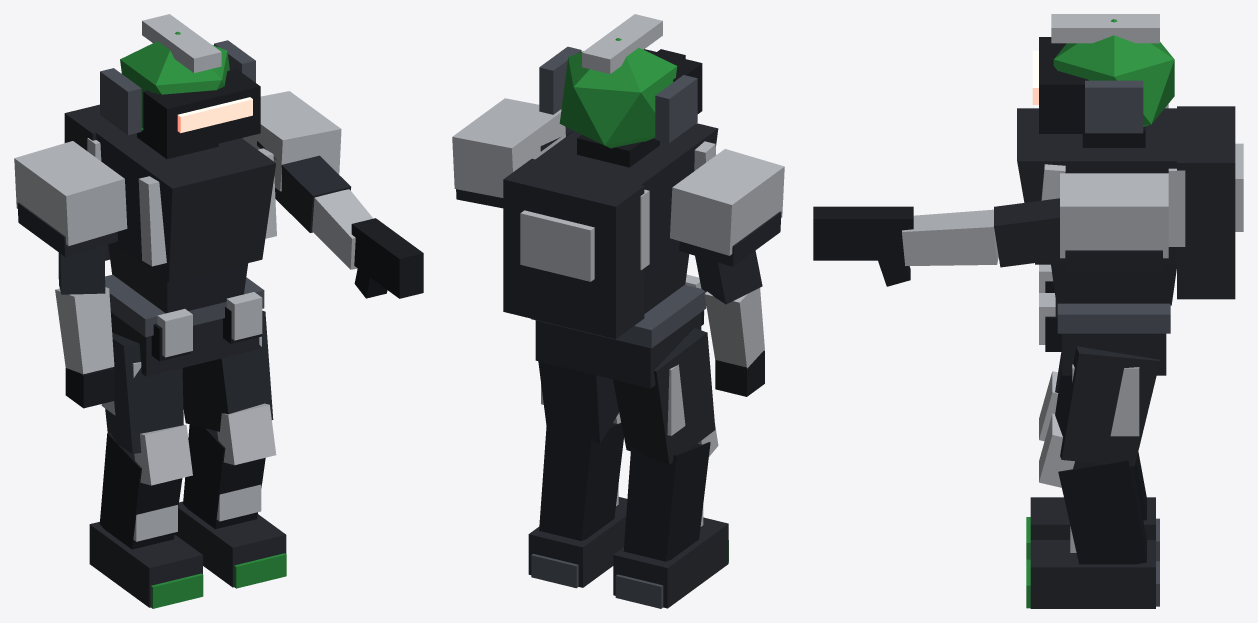
The model's file is medic.glb.
3 renders of one model, left to right at view 1: azimuth 30°, elevation 25°; view 2: azimuth 150°, elevation 25°; view 3: azimuth 270°, elevation 25°, orthographic. The views are drawn at different scales.
Parts seen in each view (by area): view 1: MedicBody, MedicLegL, MedicLegR, MedicGlow; view 2: MedicBody, MedicLegL, MedicLegR; view 3: MedicBody, MedicLegR, MedicLegL.
Boxes of the visible parts, bbox=[...] form: MedicBody: bbox=[14, 14, 423, 408]; MedicLegL: bbox=[89, 332, 203, 608]; MedicLegR: bbox=[174, 311, 286, 588]; MedicGlow: bbox=[177, 97, 252, 133]; MedicBody: bbox=[452, 14, 784, 396]; MedicLegL: bbox=[613, 328, 728, 608]; MedicLegR: bbox=[528, 361, 627, 588]; MedicBody: bbox=[813, 14, 1243, 375]; MedicLegR: bbox=[1026, 346, 1159, 608]; MedicLegL: bbox=[1026, 352, 1159, 561].
Size of the model in its own units: 0.796 by 1.46 by 1.03.
